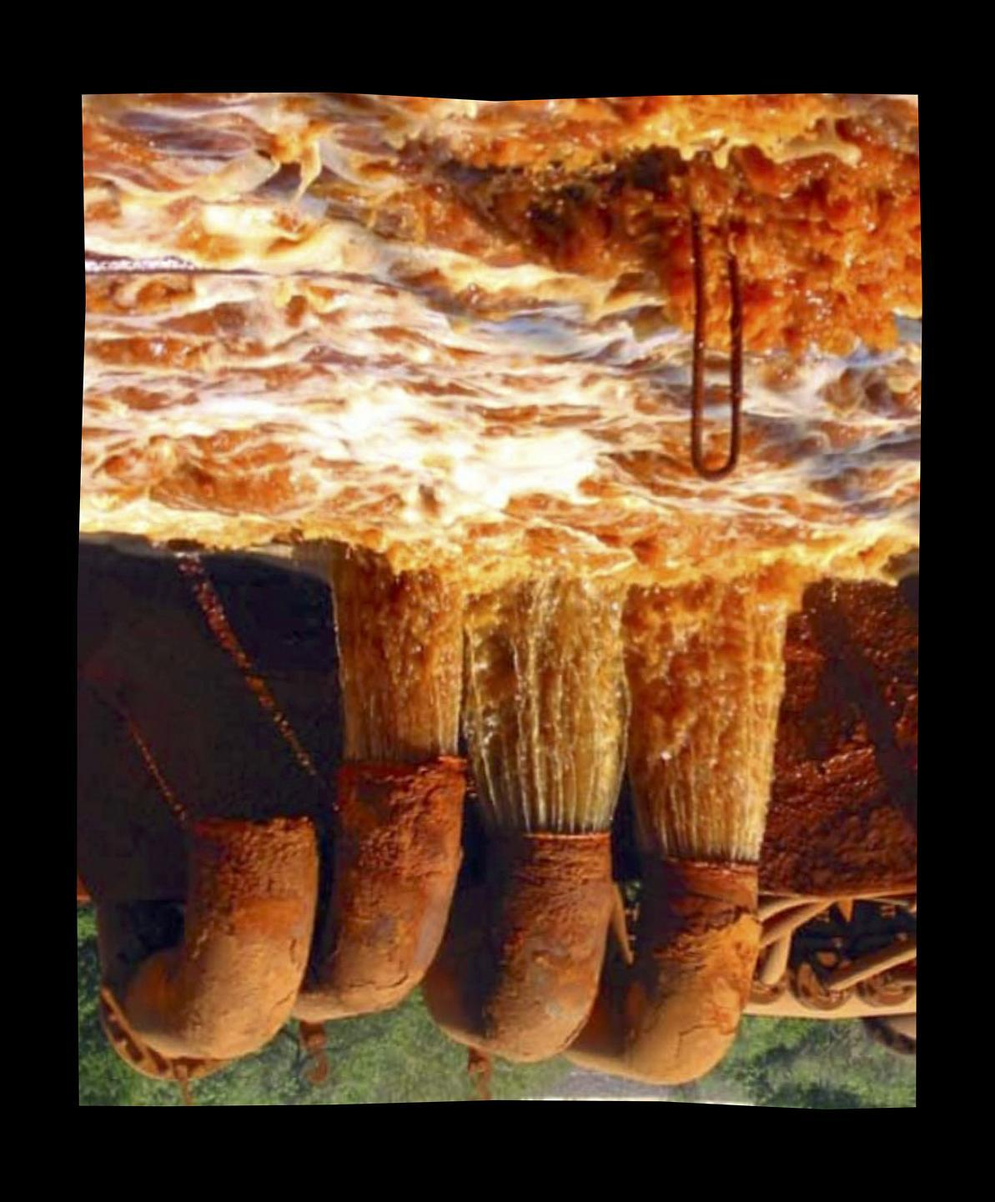Acid Pollution: (101, 115, 904, 566)
